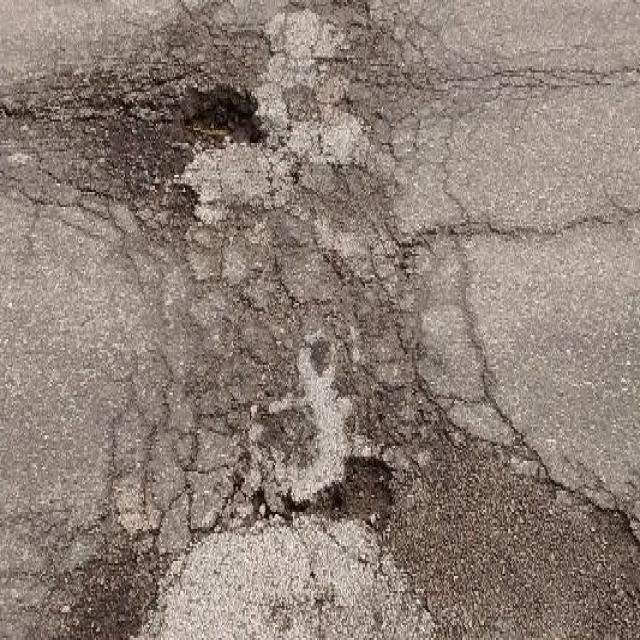Pothole: (180, 80, 268, 151), (330, 451, 397, 537)
